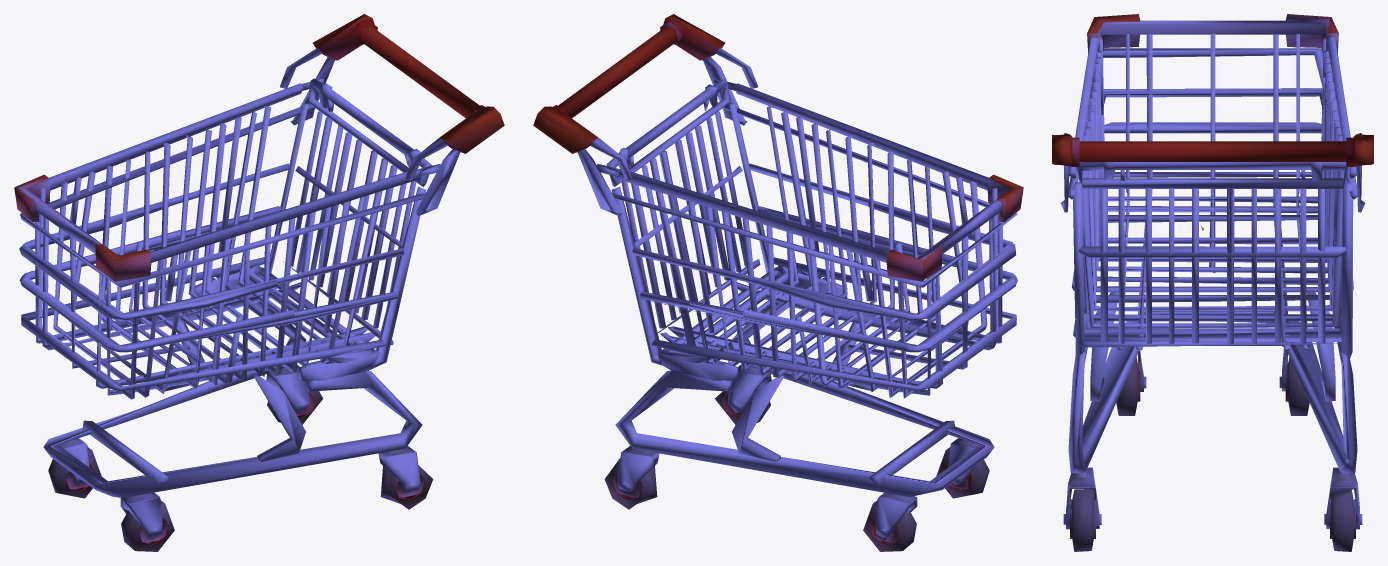
The model's file is model.progressive.glb.
3 renders of one model, left to right at view 1: azimuth 30°, elevation 25°; view 2: azimuth 150°, elevation 25°; view 3: azimuth 270°, elevation 25°, orthographic. The views are drawn at different scales.
Parts seen in each view (by area): view 1: material; view 2: material; view 3: material.
Boxes of the visible parts, x1=… form: material: x1=14, y1=14, x2=504, y2=551; material: x1=533, y1=14, x2=1023, y2=551; material: x1=1052, y1=14, x2=1373, y2=551.
Bounding box in the file's own units: 1.88 × 1.86 × 1.19.
Materials: 1 (1 with a texture image).
